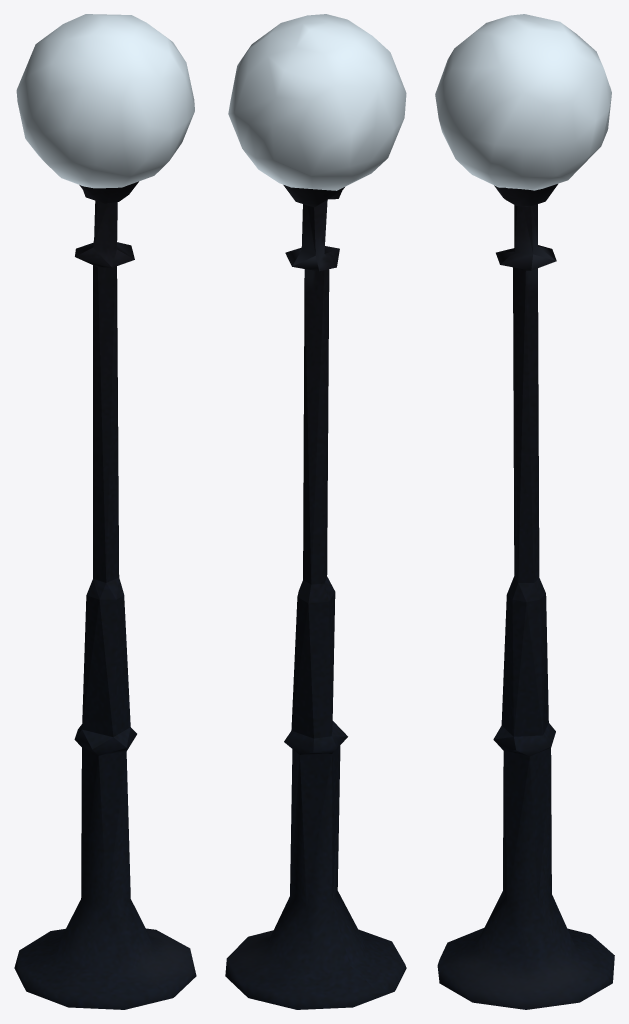
3 views of the same model, side by side, from view 1: azimuth 30°, elevation 25°; view 2: azimuth 150°, elevation 25°; view 3: azimuth 270°, elevation 25° (orthographic).
Visible parts, largest first — view 1: polySurface378_001; view 2: polySurface378_001; view 3: polySurface378_001.
Part boxes in pixels (x1,y1,x2,y2): polySurface378_001: [14, 14, 196, 1009]; polySurface378_001: [225, 14, 406, 1009]; polySurface378_001: [435, 14, 614, 1009].
Bounding box in the file's own units: 45.18 × 259 × 44.53.
Materials: 1 (1 with a texture image).
